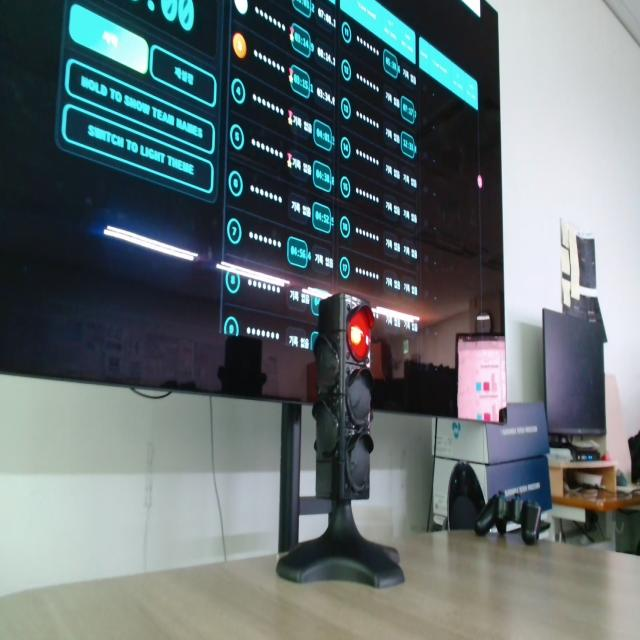red_light: (348, 306, 374, 362), (350, 325, 363, 346)
